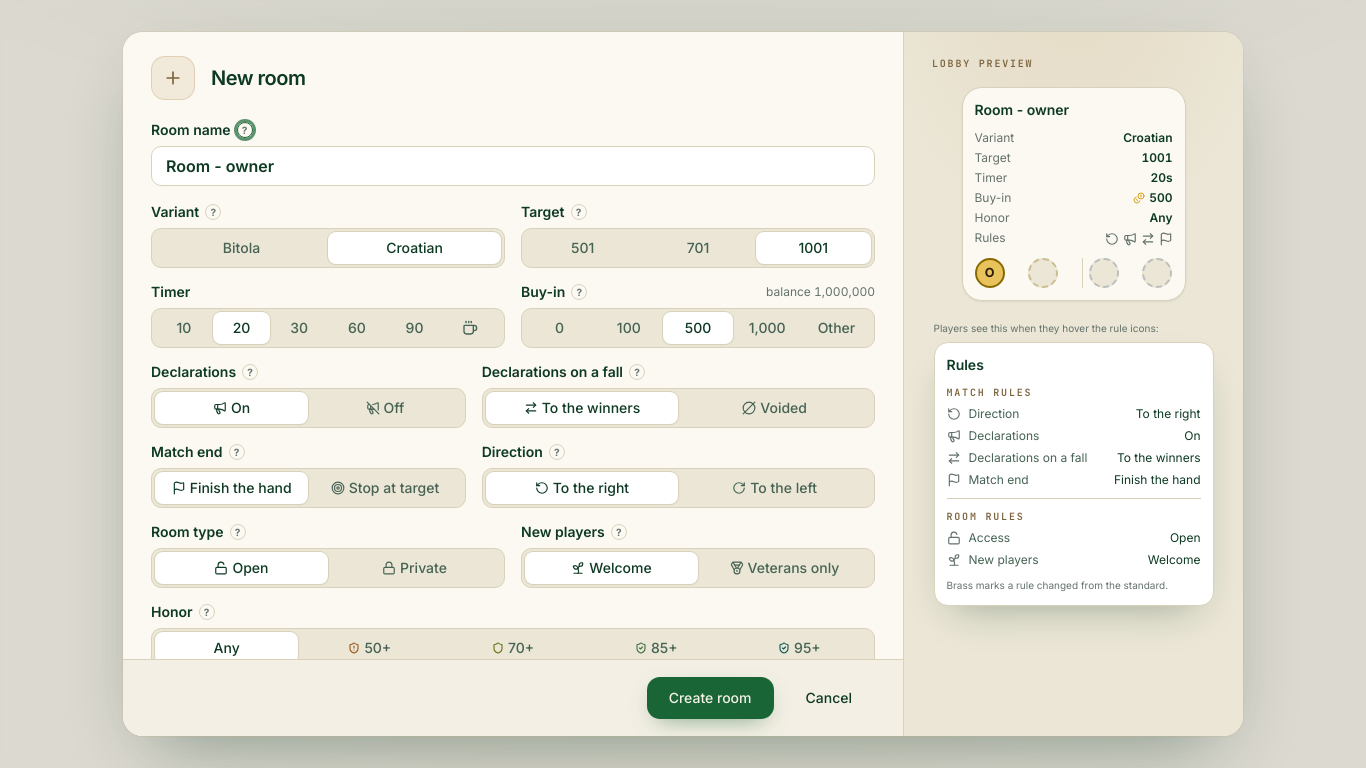
Test: CreateRoomModal name › shows ALREADY_IN_ROOM in the form banner
Click the button with test id "create-room-button" at (710, 698), box [646,676,774,720]
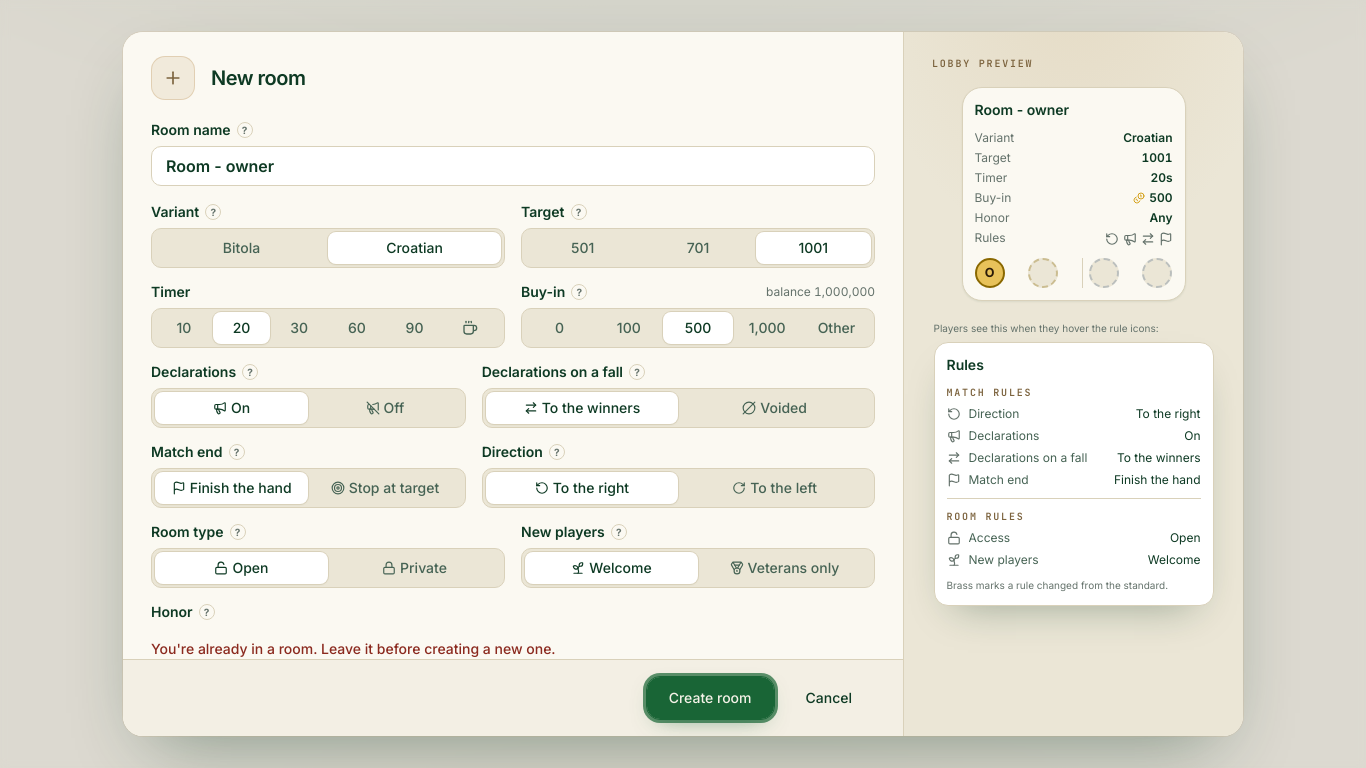
expect the message "You're already in a room. Leave it before creating a new one." is shown: met, box [151,640,556,657]
